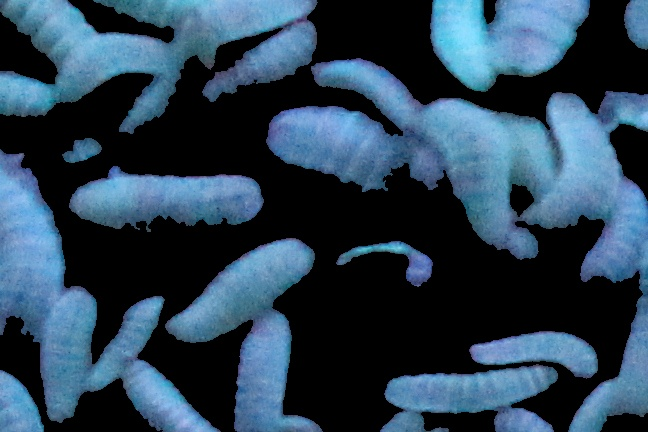larvae: (162, 234, 317, 346), (1, 136, 67, 356), (424, 98, 520, 248), (254, 95, 399, 188), (72, 173, 267, 241), (526, 89, 619, 230), (317, 54, 426, 132), (64, 30, 176, 103), (38, 289, 98, 425), (384, 365, 555, 411), (89, 286, 162, 393), (493, 1, 595, 77), (236, 315, 299, 432), (201, 28, 318, 90), (586, 175, 648, 287), (1, 1, 99, 61), (431, 1, 493, 93), (128, 366, 212, 432), (469, 339, 602, 377), (572, 376, 626, 432), (1, 75, 55, 120)
